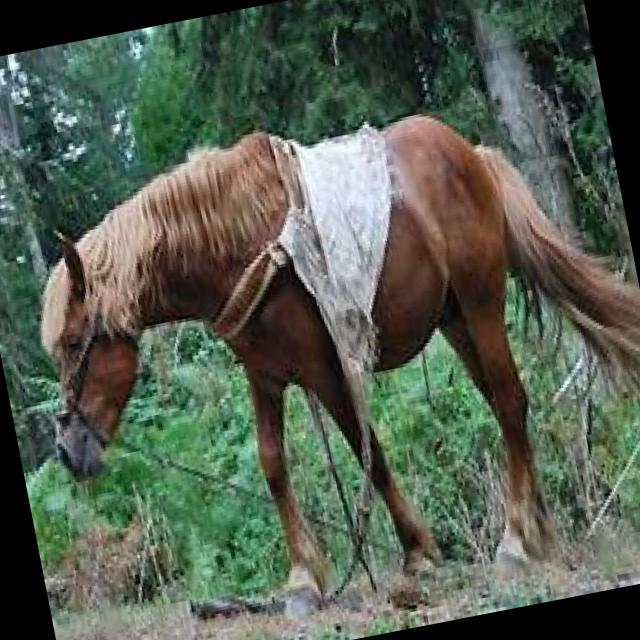horse: (1, 64, 640, 640)
